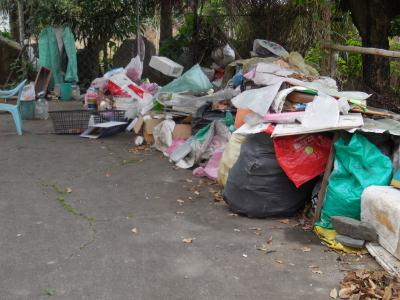box: (128, 111, 193, 142), (148, 55, 183, 78), (34, 66, 51, 94)
bucket: (18, 98, 35, 121), (59, 82, 73, 100)
plastic_bag: (223, 134, 314, 218), (321, 137, 394, 224), (162, 65, 212, 94), (124, 56, 144, 81), (211, 45, 234, 64)
